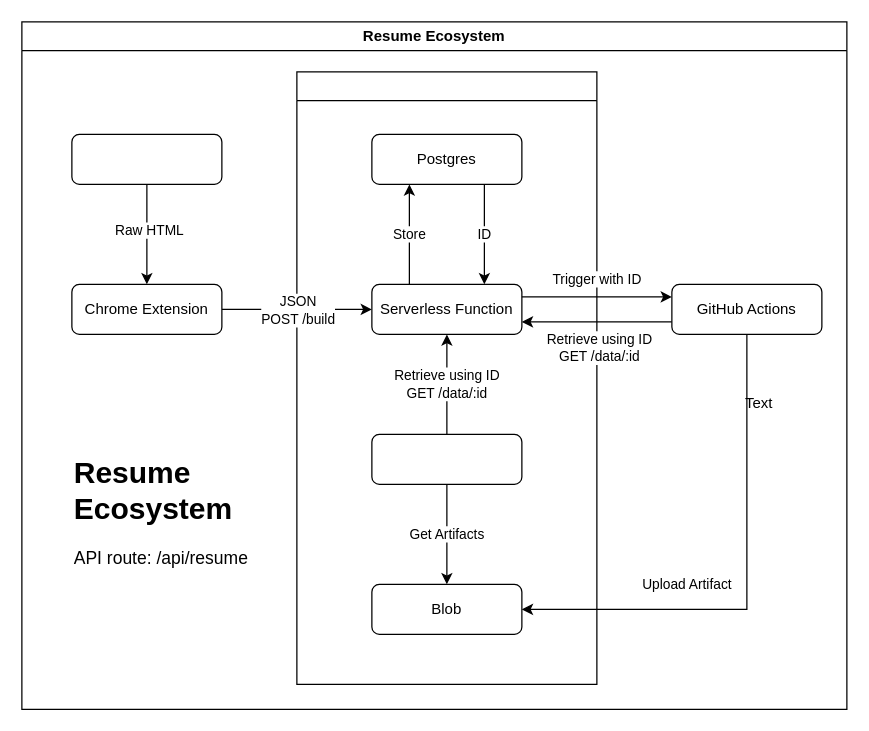
This 869x731 diagram has some shape labels left out. Here are the shapes that lost their labels. From the top down, the box of each, then its label:
(71, 133, 222, 184): LinkedIn
(296, 71, 597, 684): Vercel
(371, 433, 522, 484): Frontend
